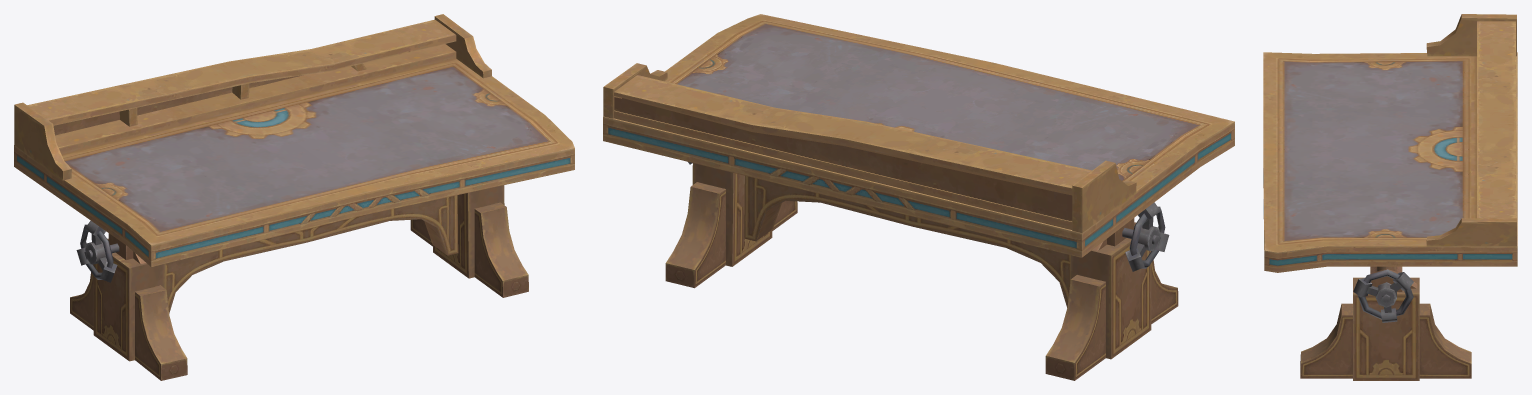
File: Homeworld_Interior_Fd_Table_Prop_Yiji_01_Lod0.fbx
3 views of the same model, side by side, from view 1: azimuth 30°, elevation 25°; view 2: azimuth 150°, elevation 25°; view 3: azimuth 270°, elevation 25° (orthographic). The views are drawn at different scales.
Visible parts, largest first — view 1: Area_Fd_Prop_FKY_Yiji_06_Lod0; view 2: Area_Fd_Prop_FKY_Yiji_06_Lod0; view 3: Area_Fd_Prop_FKY_Yiji_06_Lod0.
Boxes of the visible parts, x1=… form: Area_Fd_Prop_FKY_Yiji_06_Lod0: x1=14, y1=14, x2=574, y2=380; Area_Fd_Prop_FKY_Yiji_06_Lod0: x1=603, y1=14, x2=1234, y2=380; Area_Fd_Prop_FKY_Yiji_06_Lod0: x1=1263, y1=14, x2=1517, y2=380.
Bounding box in the file's own units: 3.03 × 1.34 × 1.68.
